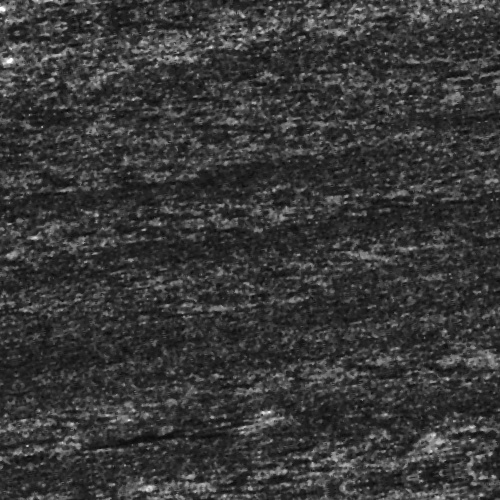object: (186, 410, 249, 423), (0, 18, 64, 27)
shadow: (58, 410, 217, 423), (0, 18, 27, 27)
